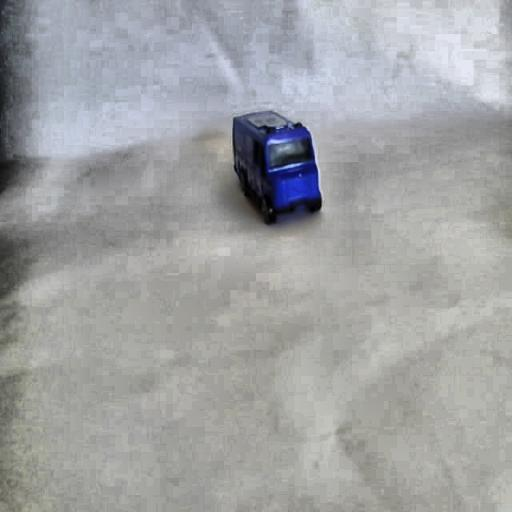police car: (230, 108, 325, 221)
